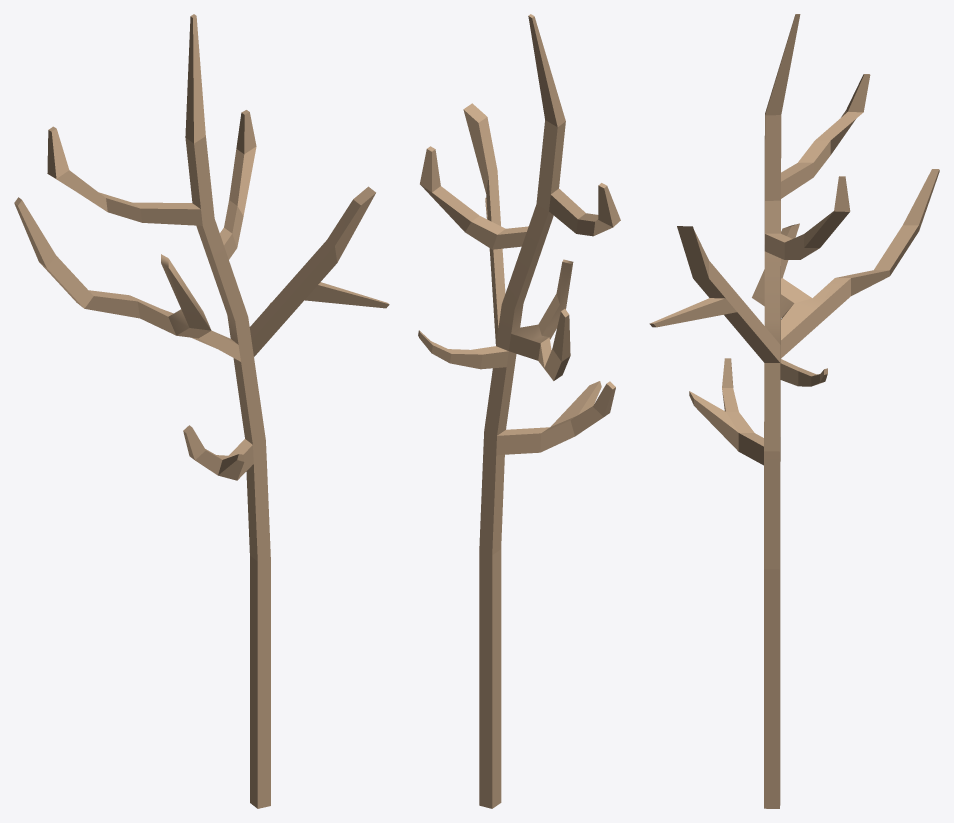
File: Polluted_BareTree.fbx
The picture shows the model from 3 angles, left to right: view 1: azimuth 30°, elevation 25°; view 2: azimuth 150°, elevation 25°; view 3: azimuth 270°, elevation 25°; orthographic projection. The views are drawn at different scales.
Visible parts, largest first — view 1: Tree; view 2: Tree; view 3: Tree.
Part boxes in pixels (x1,y1,x2,y2): Tree: [14, 14, 389, 808]; Tree: [418, 14, 620, 808]; Tree: [649, 14, 939, 808].
Size of the model in its own units: 0.596 by 1.93 by 0.6626.
